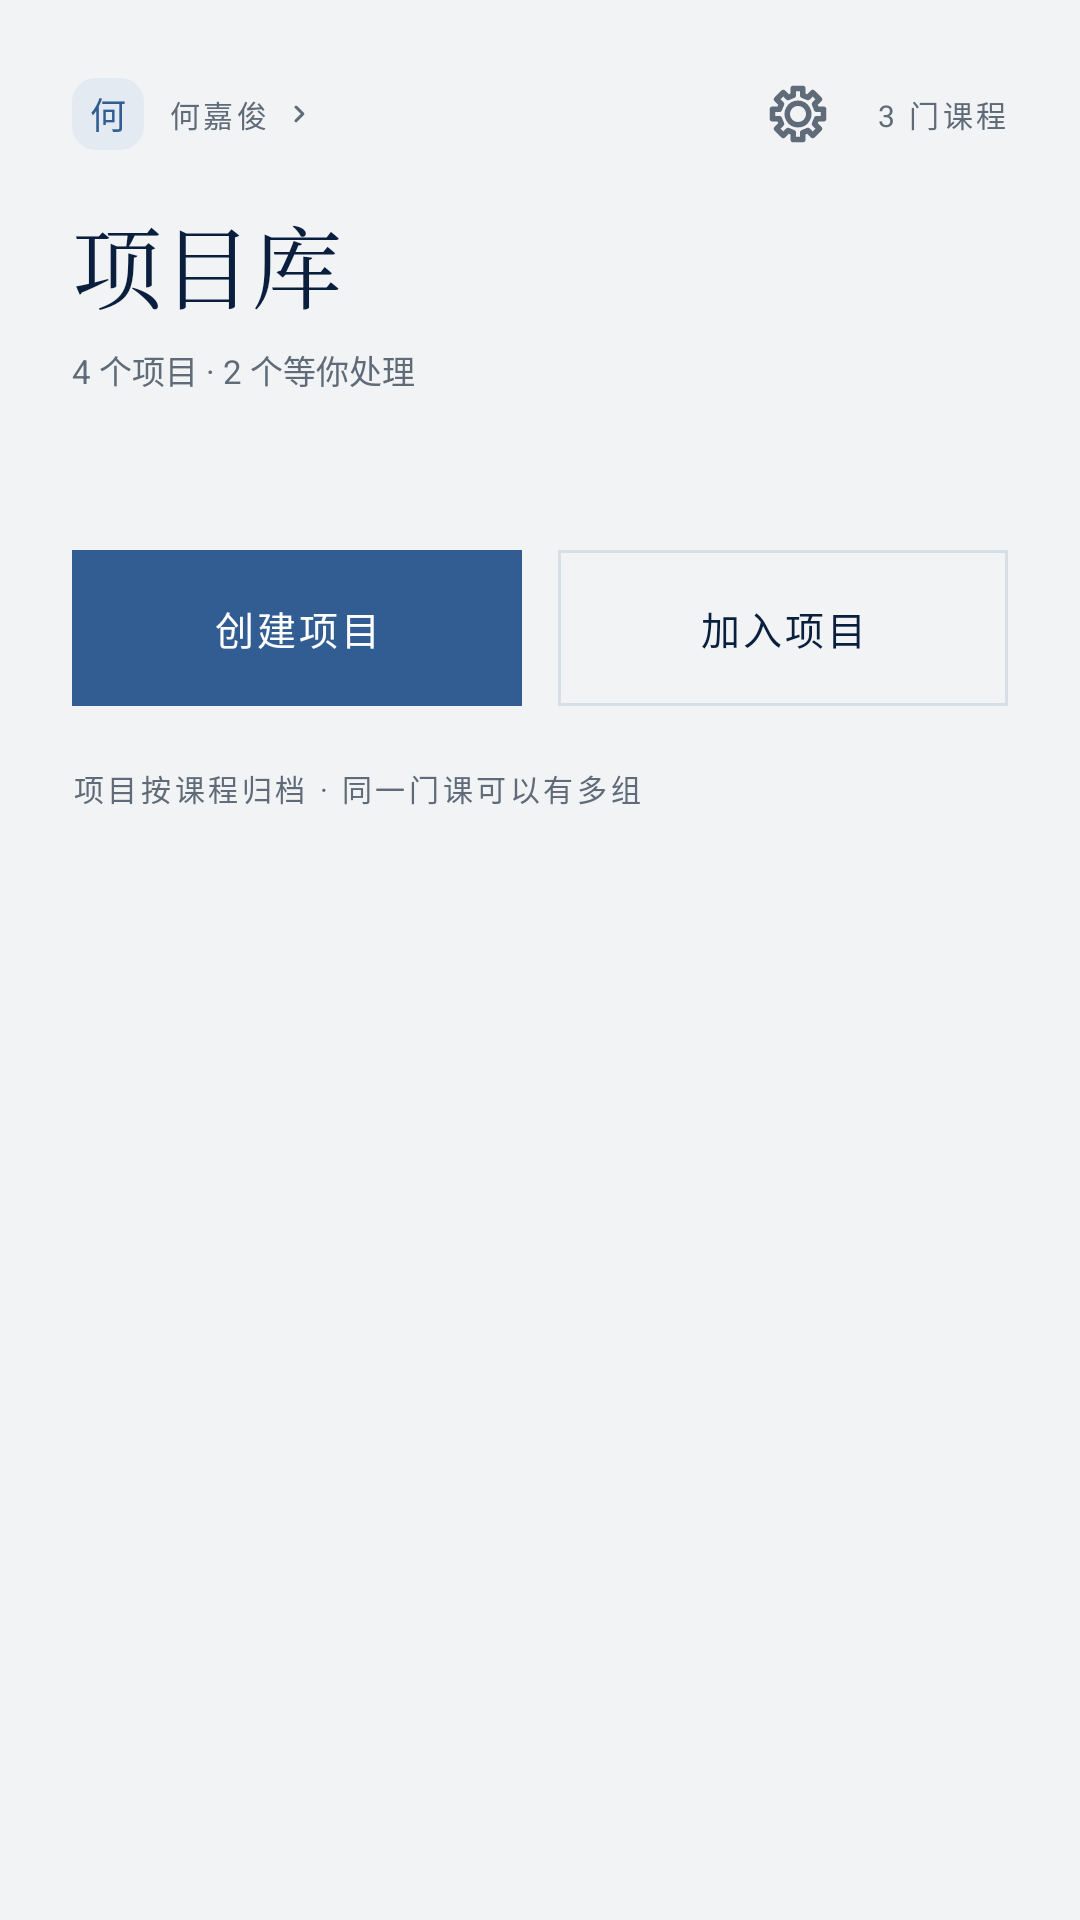

Icon click points for this 1080*1920 phone screenshot, format (x=x, y=y):
设置: (x=798, y=114)
